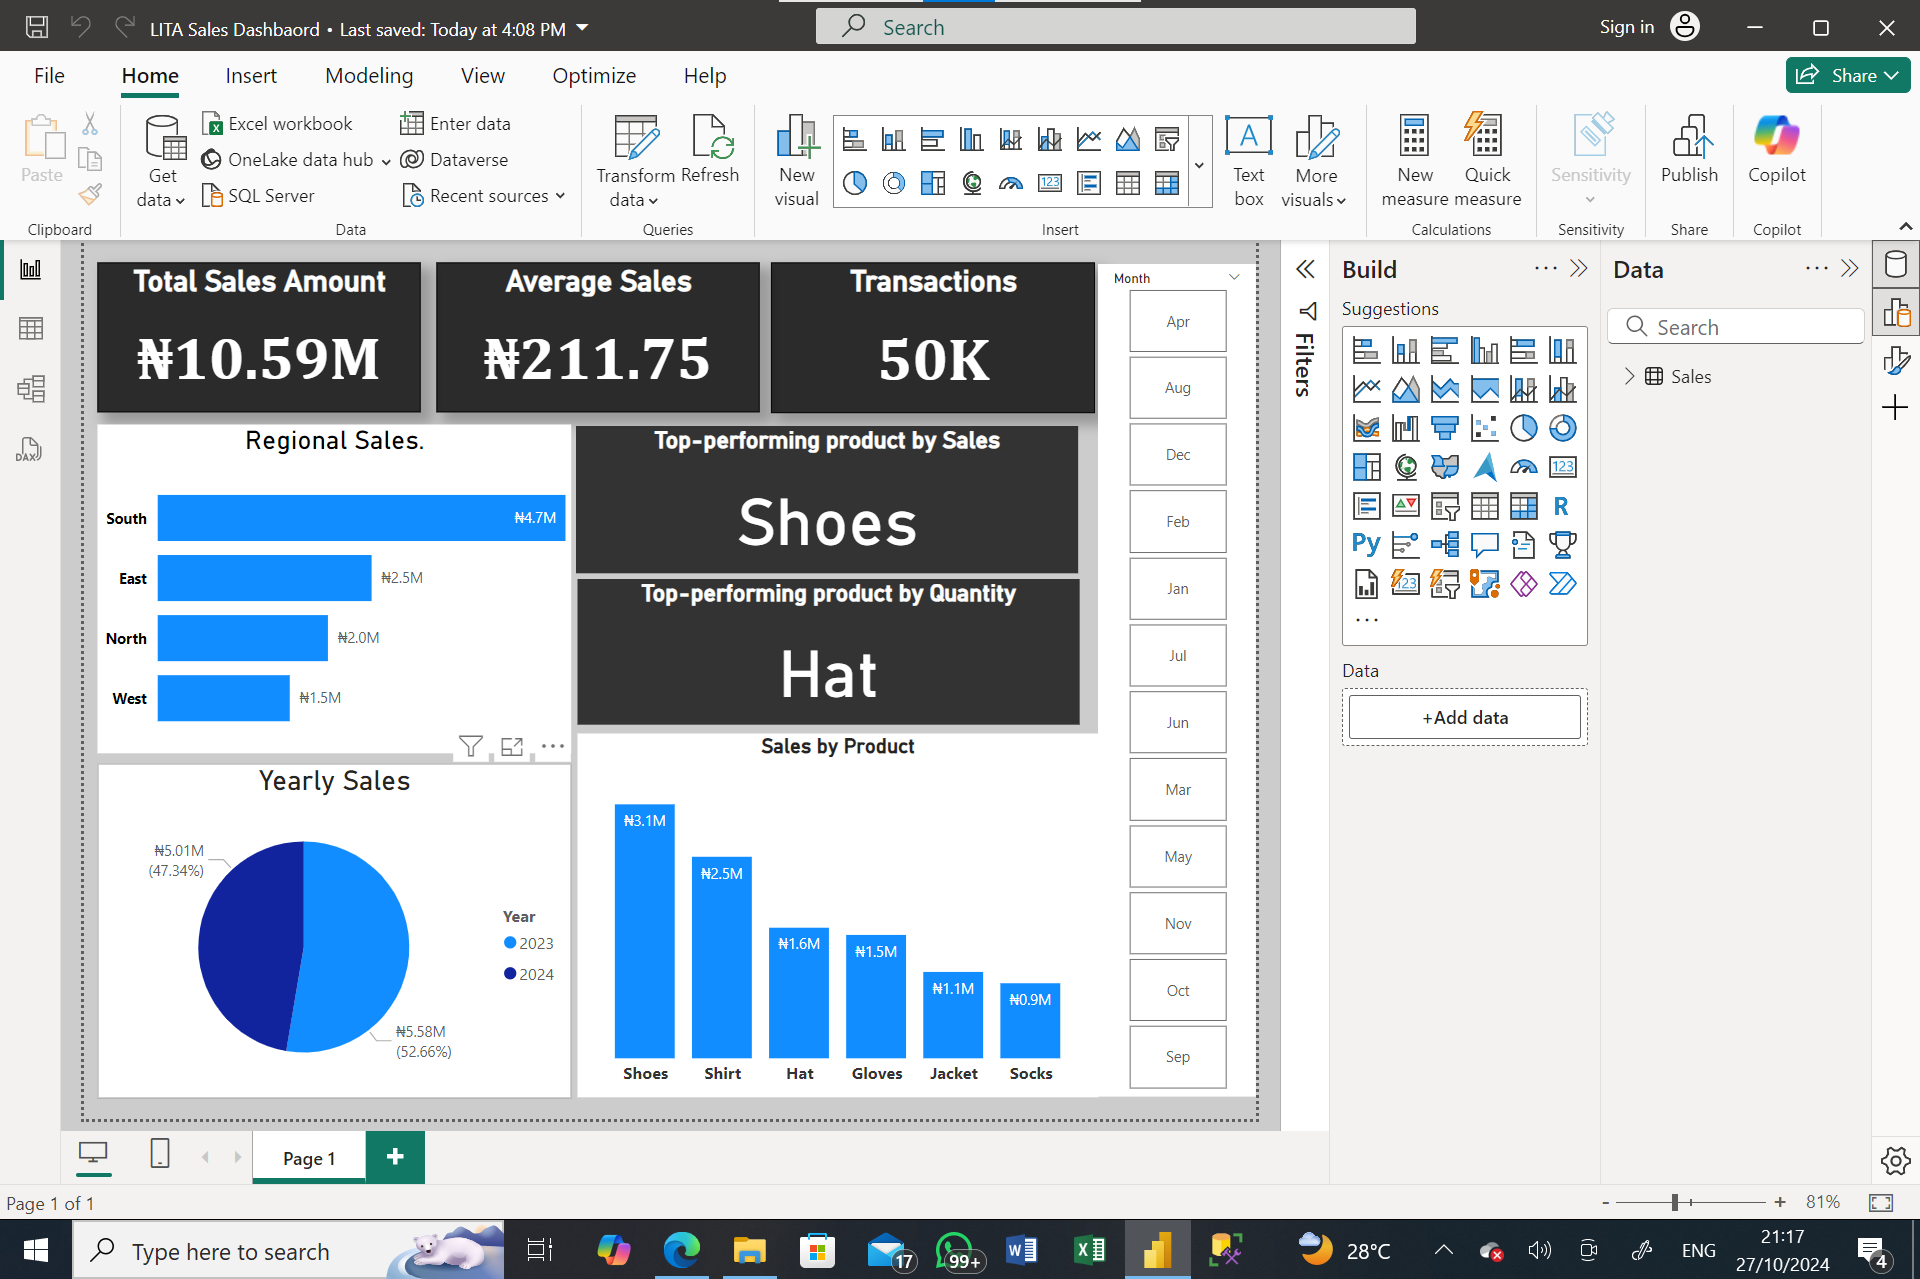

The dashboard page shown, as its layout file describes it:
{"tool":"powerbi","page":{"name":"Page 1","canvas":[960,720],"ordinal":0},"visuals":[{"type":"card","title":"Total Sales Amount","fields":{"Values":["Sum(Sales.Amount)"]},"box":[11,18.9,264.6,122.9],"z":0},{"type":"card","title":"Average Sales","fields":{"Values":["Avg(Sales.Amount)"]},"box":[288.2,18.9,264.6,122.9],"z":1000},{"type":"card","title":"Transactions","fields":{"Values":["CountNonNull(Sales.Amount)"]},"box":[563,18.2,265.3,123.5],"z":2000},{"type":"clusteredBarChart","title":"Regional Sales.","fields":{"Category":["Sales.Region"],"Y":["Sum(Sales.Amount)"]},"box":[11.1,151.1,388.3,269.1],"z":3000},{"type":"pieChart","title":"Yearly Sales","fields":{"Category":["Sales.Year"],"Y":["Sum(Sales.Amount)"]},"box":[11.1,428.8,388.3,274],"z":4000},{"type":"slicer","fields":{"Values":["Sales.Month"]},"box":[830.9,19.7,129.1,682],"z":5000},{"type":"card","title":" Top-performing product by Sales","fields":{"Values":["Min(Sales.Product)"]},"box":[403,152.4,411.6,120.4],"z":6000},{"type":"card","title":" Top-performing product by Quantity","fields":{"Values":["Min(Sales.Product)"]},"box":[404.2,277.7,411.6,119.2],"z":6001},{"type":"clusteredColumnChart","title":"Sales by Product","fields":{"Category":["Sales.Product"],"Y":["Sum(Sales.Amount)"]},"box":[404.1,404.1,426.8,297.7],"z":6002}]}

Visuals, with their boxes on the page's 960x720 design canvas (x1, y1, x2, y2). These are canvas units, not pixel positions in the 1920x1279 screenshot, which may show the page scaled, cropped or inside an application window:
"Total Sales Amount" card: <box>11,19,276,142</box>
"Average Sales" card: <box>288,19,553,142</box>
"Transactions" card: <box>563,18,828,142</box>
"Regional Sales." clusteredBarChart: <box>11,151,399,420</box>
"Yearly Sales" pieChart: <box>11,429,399,703</box>
slicer - Sales.Month: <box>831,20,960,702</box>
" Top-performing product by Sales" card: <box>403,152,815,273</box>
" Top-performing product by Quantity" card: <box>404,278,816,397</box>
"Sales by Product" clusteredColumnChart: <box>404,404,831,702</box>
